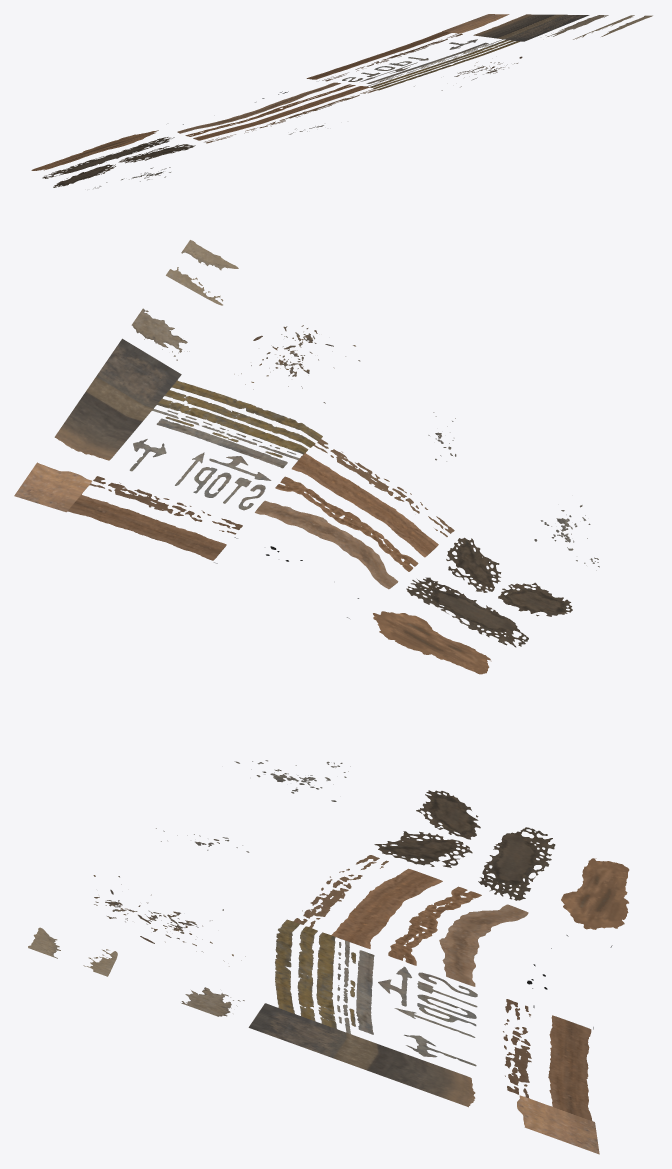
The model's file is Tide_GenerateSurfaceDecal_80E4D704_0_FlowDecal_SmallMesh_Mesh_x9_y5_149_0_ATLAS.fbx.
3 renders of one model, top to bottom at view 1: azimuth 30°, elevation 25°; view 2: azimuth 150°, elevation 25°; view 3: azimuth 270°, elevation 25°, orthographic. The views are drawn at different scales.
Parts seen in each view (by area): view 1: Tide_GenerateSurfaceDecal_80E4D704_0_FlowDecal_SmallMesh_Mes; view 2: Tide_GenerateSurfaceDecal_80E4D704_0_FlowDecal_SmallMesh_Mes; view 3: Tide_GenerateSurfaceDecal_80E4D704_0_FlowDecal_SmallMesh_Mes.
Part boxes in pixels (box(x1,y1,x2,y2)): Tide_GenerateSurfaceDecal_80E4D704_0_FlowDecal_SmallMesh_Mes: box(31, 14, 652, 188); Tide_GenerateSurfaceDecal_80E4D704_0_FlowDecal_SmallMesh_Mes: box(14, 240, 599, 674); Tide_GenerateSurfaceDecal_80E4D704_0_FlowDecal_SmallMesh_Mes: box(28, 760, 629, 1154).
Bounding box in the file's own units: 254 × 161 × 86.18.
